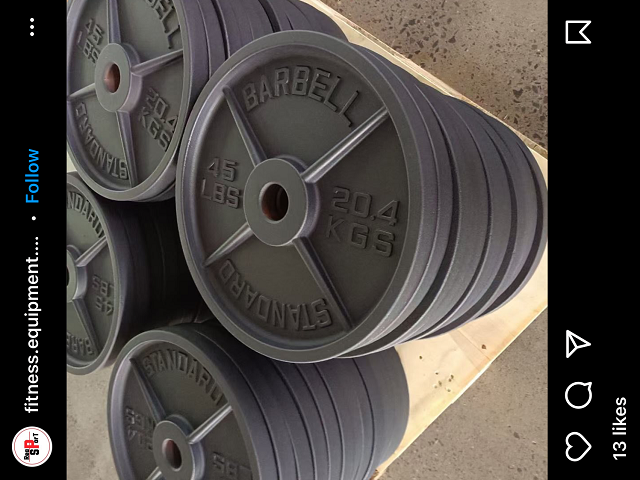weights: (176, 31, 439, 365), (68, 1, 211, 201), (106, 326, 279, 480), (65, 169, 135, 375)
